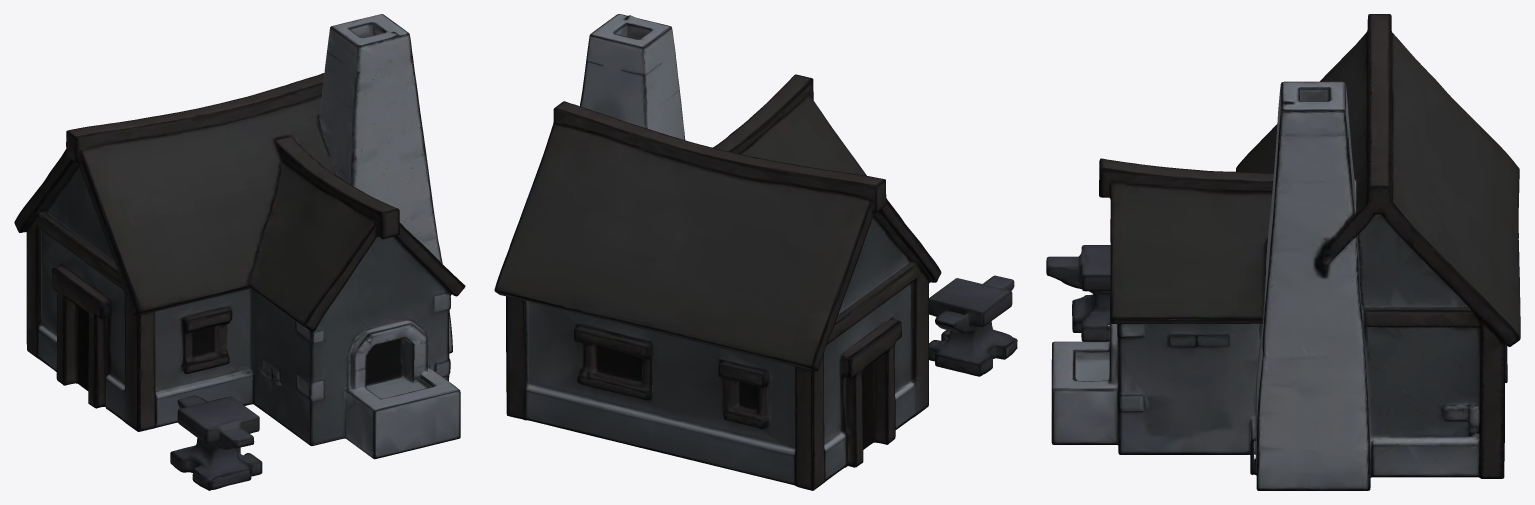
File: forge-optimized.glb
3 views of the same model, side by side, from view 1: azimuth 30°, elevation 25°; view 2: azimuth 150°, elevation 25°; view 3: azimuth 270°, elevation 25° (orthographic). The views are drawn at different scales.
Visible parts, largest first — view 1: world; view 2: world; view 3: world.
Part boxes in pixels (<box>): world: <box>14,14,465,490</box>; world: <box>494,14,1017,490</box>; world: <box>1046,14,1520,490</box>.
Size of the model in its own units: 0.9104 by 0.861 by 1.
Materials: 1 (1 with a texture image).
